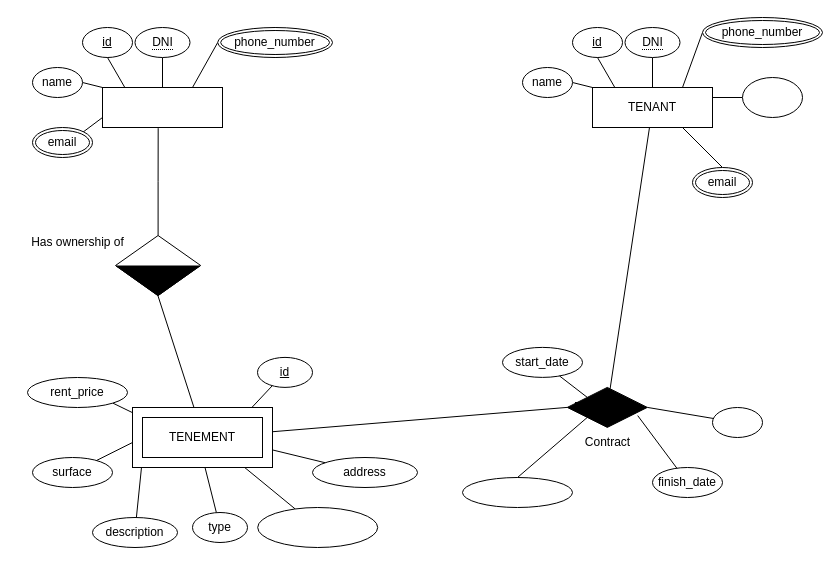
The diagram is 840 pixels wide and 565 high, and some of its shapes have lost their labels. Each missing label, with the centre of its shape:
"accepts_pets" goes at (x=317, y=527).
"contract_status" goes at (x=517, y=492).
"has_pet" goes at (x=772, y=97).
"LANDLORD" goes at (x=162, y=107).
"price" goes at (x=737, y=422).
